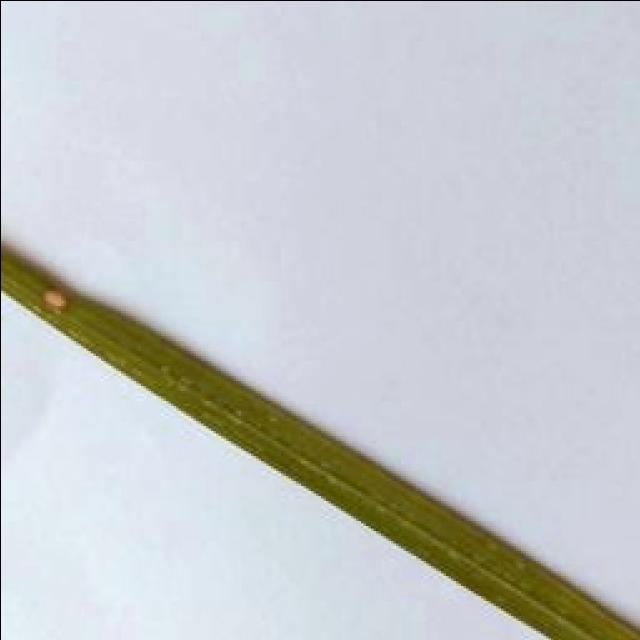Unhealthy: (38, 288, 68, 309)
